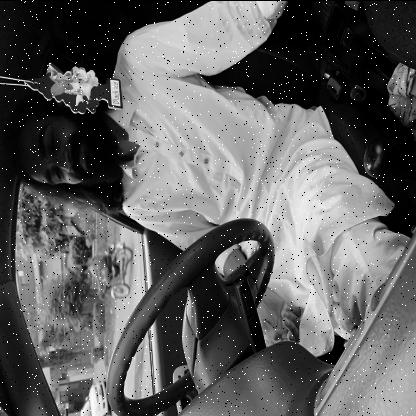no_seatbelt: (0, 86, 252, 248)
